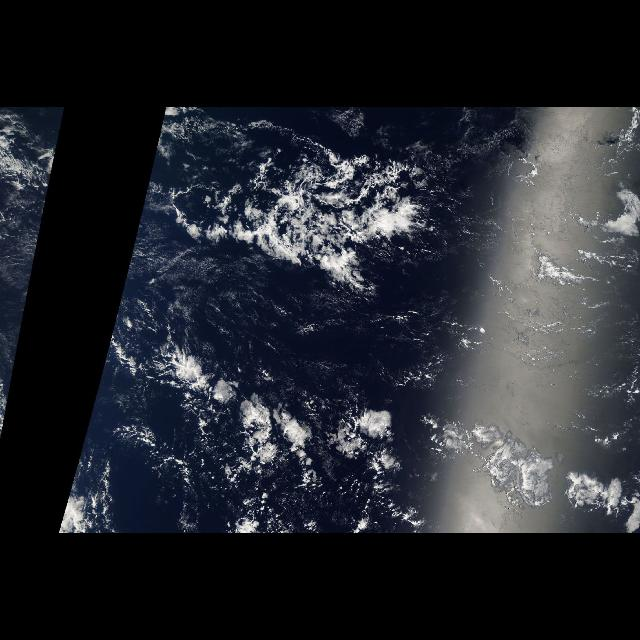Fish: (172, 138, 450, 300)
Flower: (148, 337, 630, 533)
Sugar: (150, 144, 386, 380)
